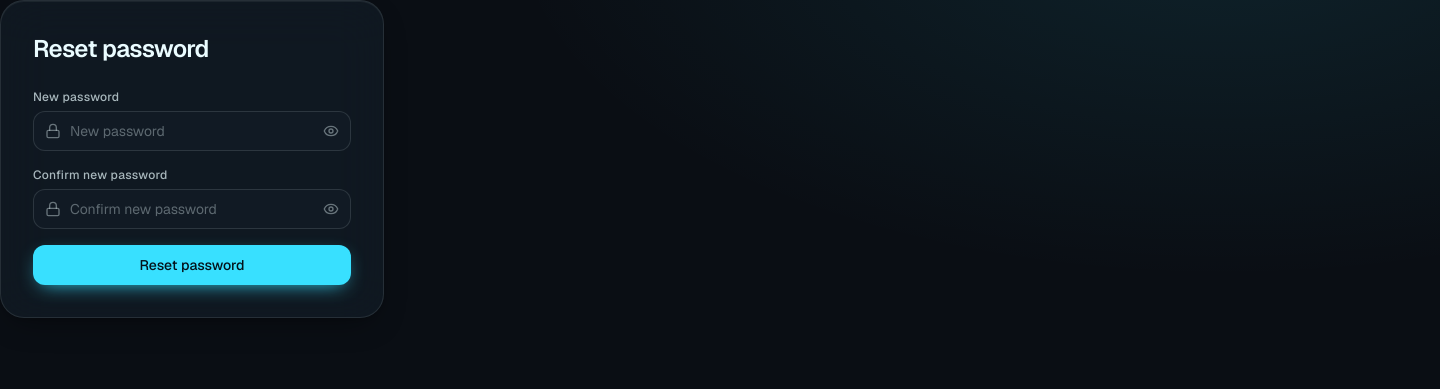
Test: ResetPasswordPage › shows the server's error message when the token is invalid or expired
Type "newpassword123" into the password field labelled "New password".
click(192, 131); type("newpassword123")  # box [33, 111, 351, 151]
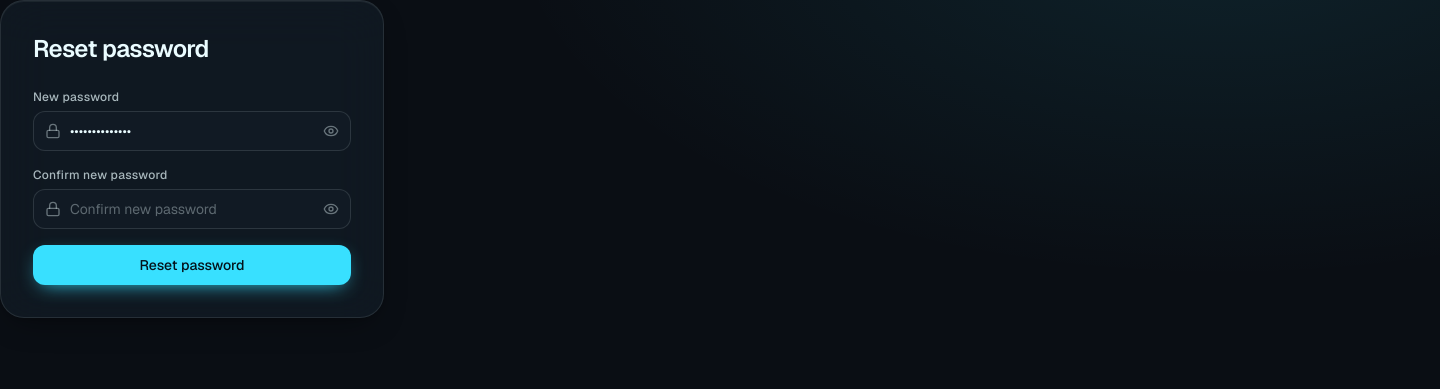
Type "newpassword123" into the password field labelled "Confirm new password".
click(192, 209); type("newpassword123")  # box [33, 189, 351, 229]
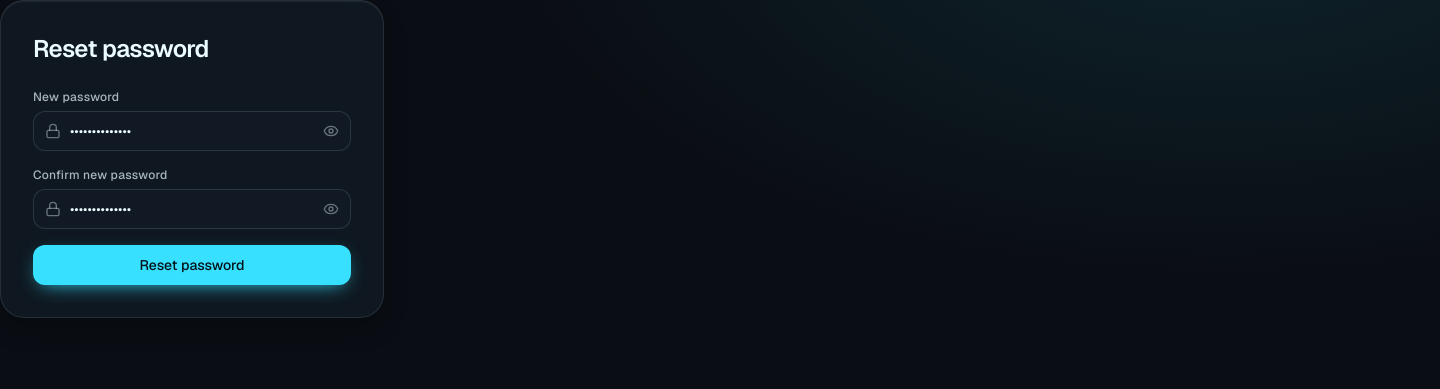
Click the button "Reset password".
click(192, 265)  # box [33, 245, 351, 285]
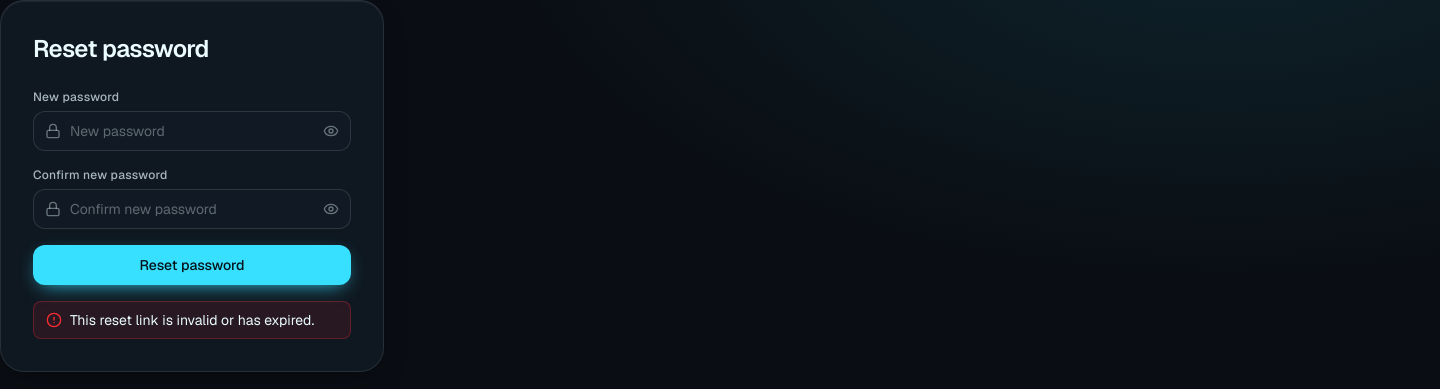
Result: the message reads "This reset link is invalid or has expired." at [70, 311, 314, 329]
